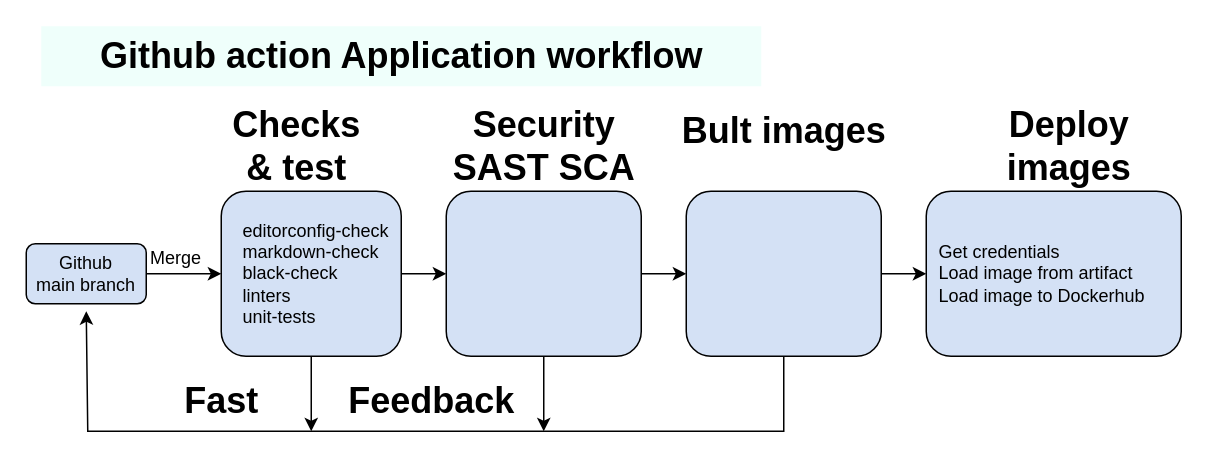
This 1208x470 diagram has some shape labels left out. The centre of each missing label's shape, as x and y in pixels:
build-docker-images test-images-Trivy Upload artifact local: pixel 783 273
gitleaks-security trivy-security snyk-security sonarcloud-security: pixel 543 273
